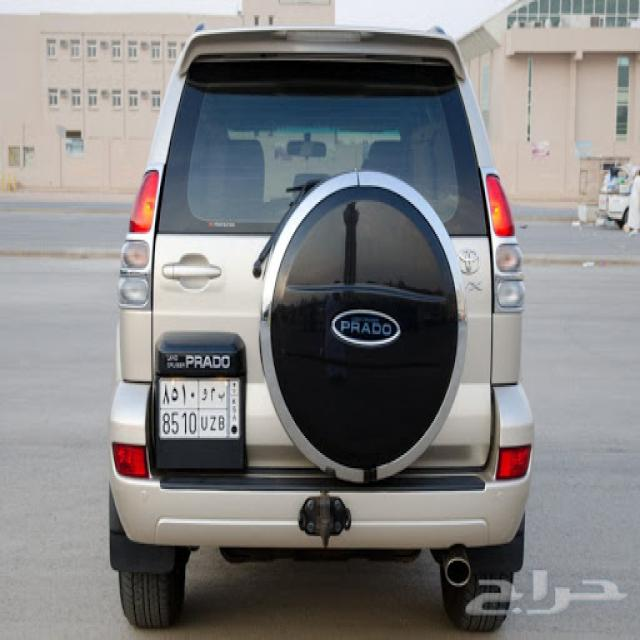license_plate: (158, 376, 242, 444)
